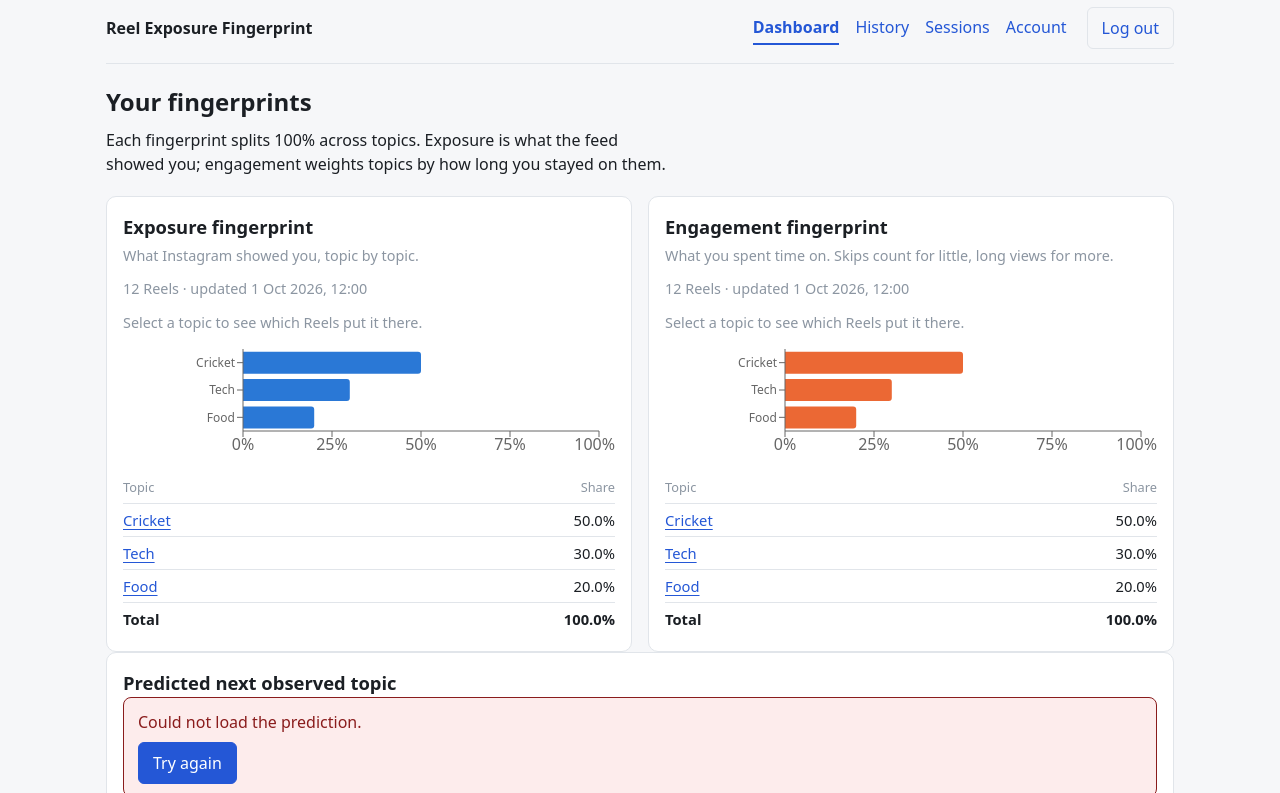
prediction panel › shows an error with a retry
Click the button "Try again" at (187, 762), box [138,742,237,784]
(page scrolled)
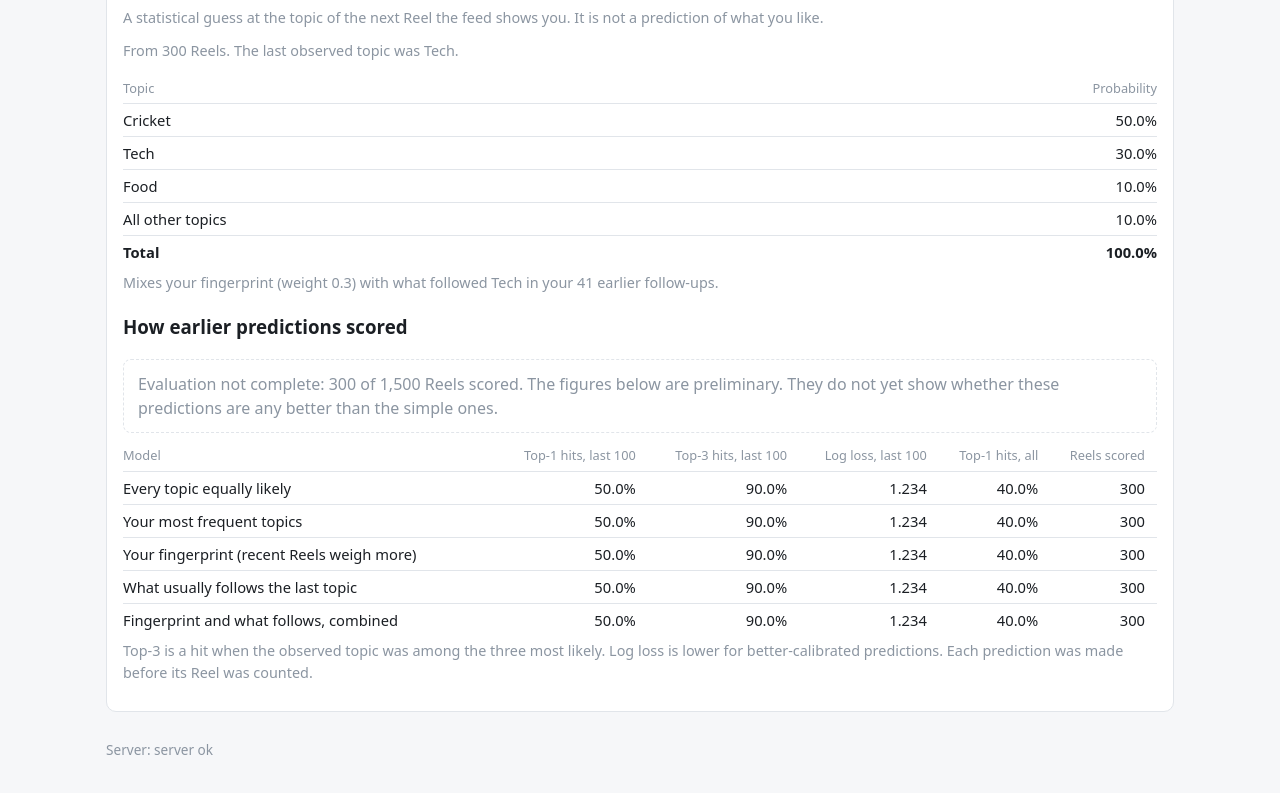
Expected: the table named "How earlier predictions scored" is shown, [123,442,1157,636]
